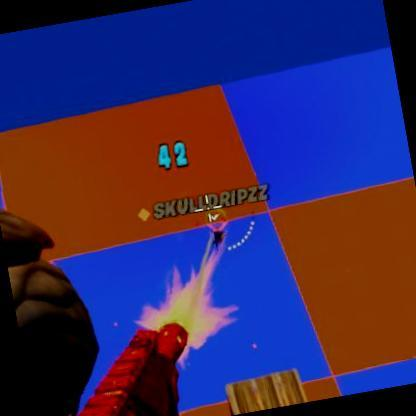person: (207, 216, 232, 253)
